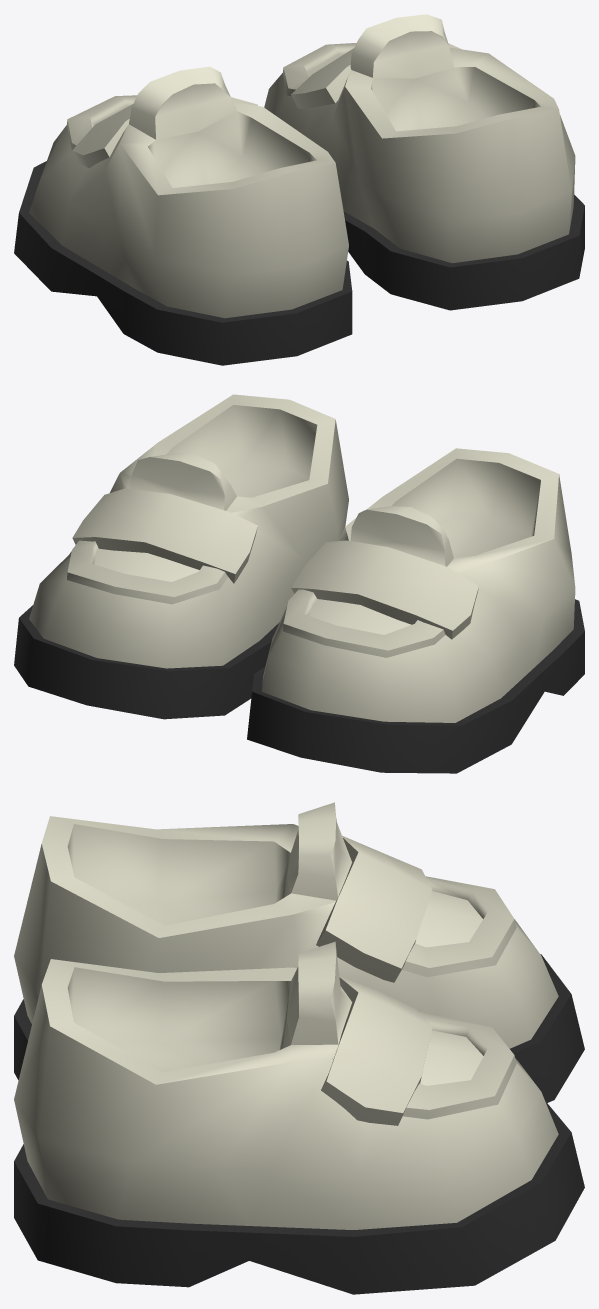
Rendered from Shoes_6.fbx.
3 views of the same model, one above another, from view 1: azimuth 30°, elevation 25°; view 2: azimuth 150°, elevation 25°; view 3: azimuth 270°, elevation 25° (orthographic). The views are drawn at different scales.
Parts seen in each view (by area): view 1: Shoes_6; view 2: Shoes_6; view 3: Shoes_6.
Boxes of the visible parts, left/top/right/bottom form: Shoes_6: left=14, top=14, right=584, bottom=365; Shoes_6: left=14, top=394, right=584, bottom=773; Shoes_6: left=14, top=802, right=584, bottom=1294.
Size of the model in its own units: 41.82 by 17.01 by 33.98.
